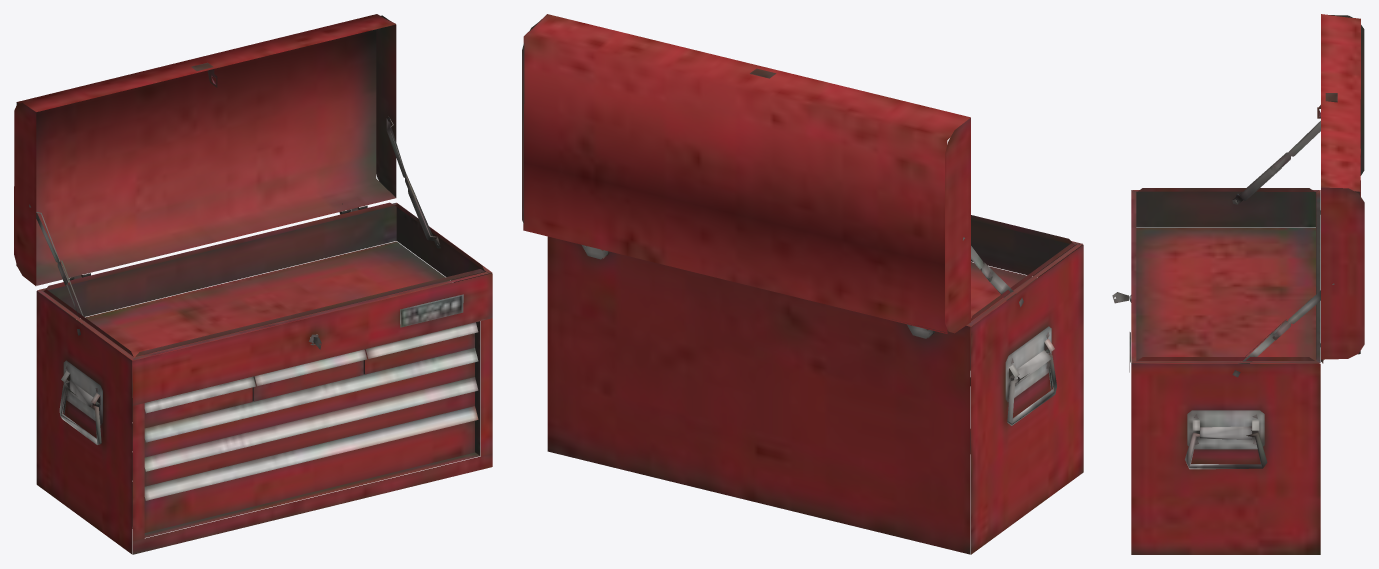
The model's file is tool_chest.glb.
3 renders of one model, left to right at view 1: azimuth 30°, elevation 25°; view 2: azimuth 150°, elevation 25°; view 3: azimuth 270°, elevation 25°, orthographic. The views are drawn at different scales.
Visible parts, largest first — view 1: tool_chest; view 2: tool_chest; view 3: tool_chest.
Boxes of the visible parts, left/top/right/bottom form: tool_chest: left=14, top=14, right=492, bottom=554; tool_chest: left=522, top=14, right=1083, bottom=554; tool_chest: left=1112, top=14, right=1364, bottom=554.
Size of the model in its own units: 0.6894 by 0.6518 by 0.4056.
Materials: 1 (1 with a texture image).
